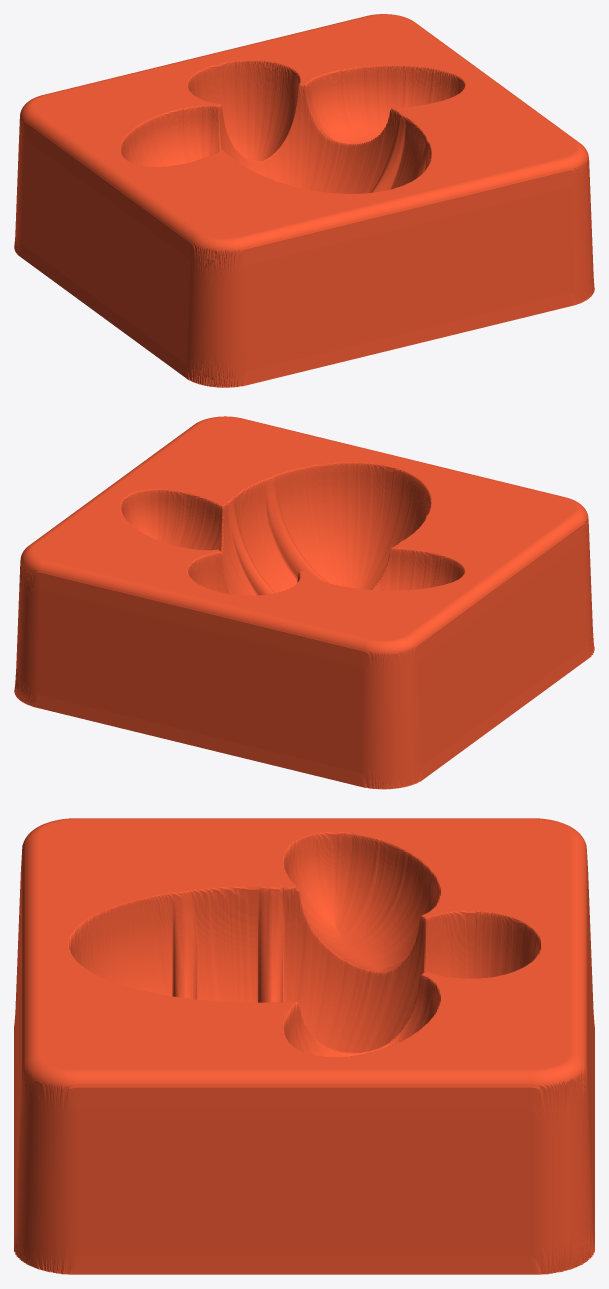
Rendered from mold.glb.
3 views of the same model, one above another, from view 1: azimuth 30°, elevation 25°; view 2: azimuth 150°, elevation 25°; view 3: azimuth 270°, elevation 25° (orthographic). The views are drawn at different scales.
Visible parts, largest first — view 1: geometry_0; view 2: geometry_0; view 3: geometry_0.
Part boxes in pixels (box(x1,y1,x2,y2)): geometry_0: box(14, 14, 594, 387); geometry_0: box(14, 416, 594, 789); geometry_0: box(14, 818, 594, 1274).
Size of the model in its own units: 0.0924 by 0.031 by 0.0838.
